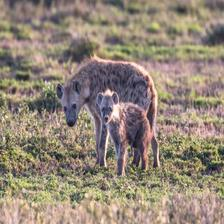hyena: (56, 58, 166, 174), (92, 89, 162, 176)
